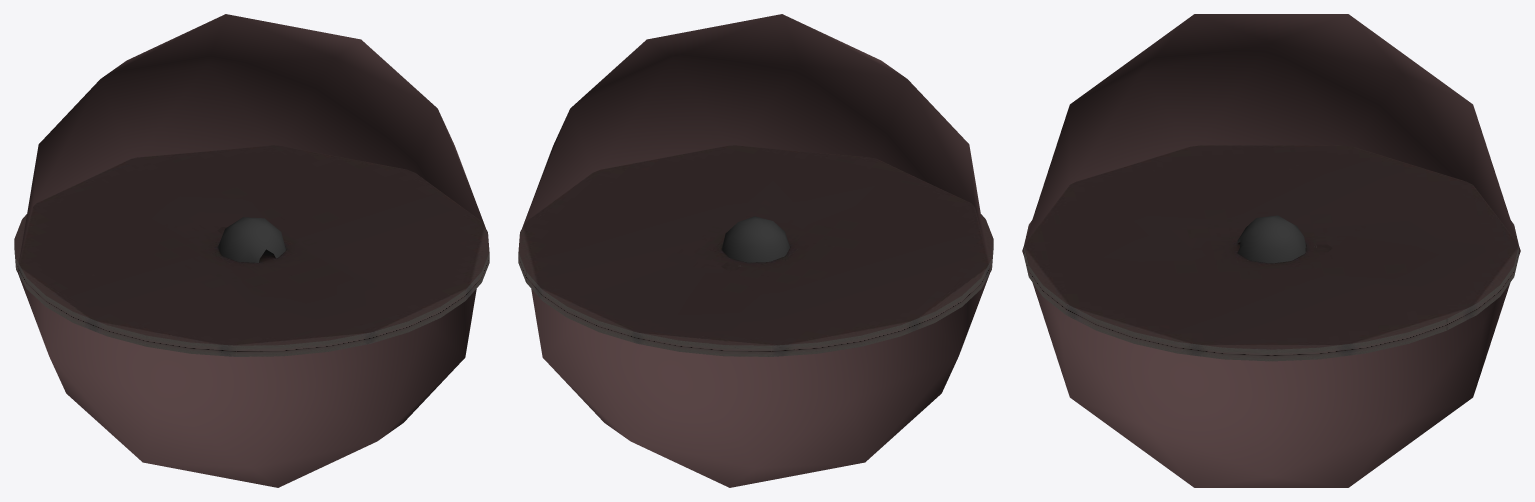
The picture shows the model from 3 angles, left to right: view 1: azimuth 30°, elevation 25°; view 2: azimuth 150°, elevation 25°; view 3: azimuth 270°, elevation 25°; orthographic projection. The views are drawn at different scales.
Visible parts, largest first — view 1: envirosphere.001, ground.003, lodge.003; view 2: envirosphere.001, ground.003, lodge.003; view 3: envirosphere.001, ground.003, lodge.003.
Boxes of the visible parts, x1,y1,x2,y2 form: envirosphere.001: (17,14,485,487); ground.003: (14,145,489,356); lodge.003: (218,217,285,262); envirosphere.001: (522,14,990,487); ground.003: (518,145,993,356); lodge.003: (722,216,789,262); envirosphere.001: (1022,14,1520,487); ground.003: (1024,145,1518,361); lodge.003: (1237,215,1305,263).
Bounding box in the file's own units: 13.58 × 13.69 × 13.69.
Materials: 3 (1 with a texture image).
